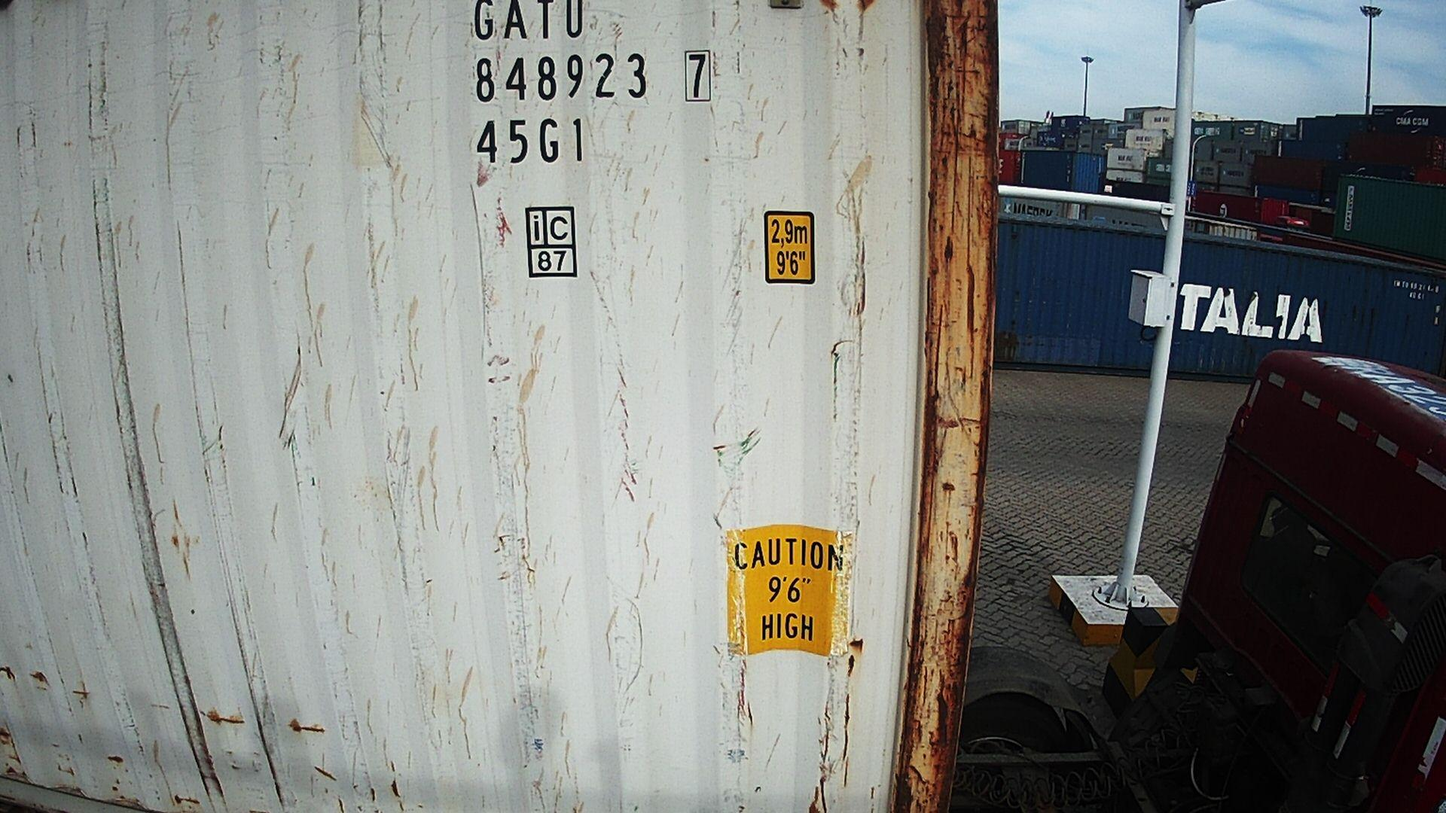container-numbers: (470, 47, 717, 107), (471, 114, 591, 167), (467, 0, 588, 44)
